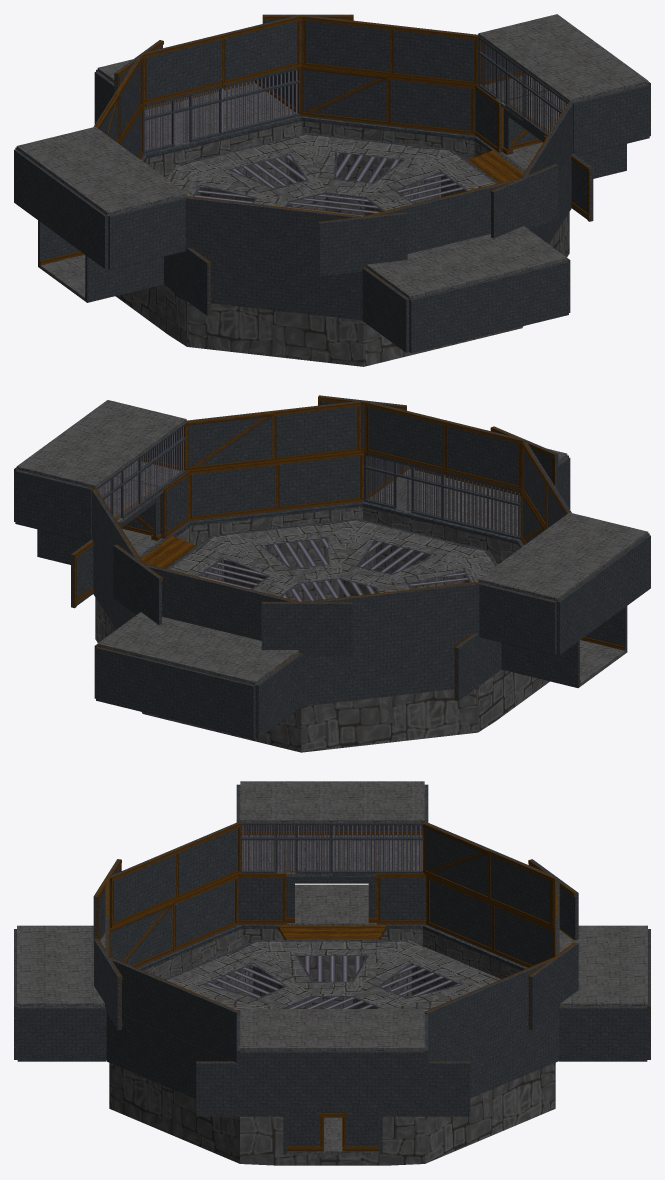
The model's file is Bossraum.fbx.
The picture shows the model from 3 angles, top to bottom: view 1: azimuth 30°, elevation 25°; view 2: azimuth 150°, elevation 25°; view 3: azimuth 270°, elevation 25°; orthographic projection.
Parts seen in each view (by area): view 1: Bossraum; view 2: Bossraum; view 3: Bossraum.
Part boxes in pixels (x1,y1,x2,y2): Bossraum: (14,14,650,366); Bossraum: (14,395,650,752); Bossraum: (14,781,650,1165).
Size of the model in its own units: 3462 by 3462 by 939.
Materials: 1 (1 with a texture image).
